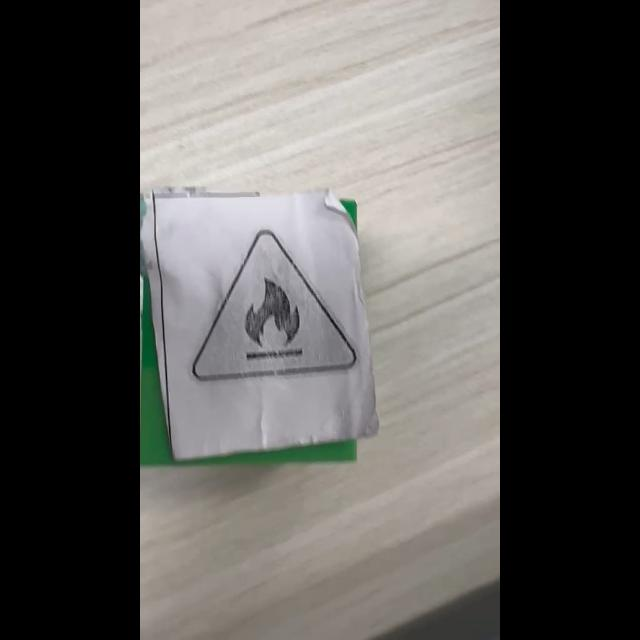Fire: (193, 230, 357, 381)
